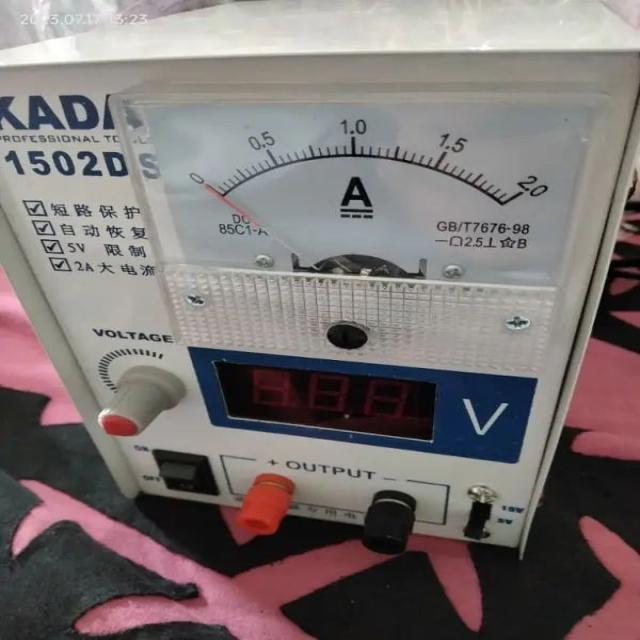electronic: (1, 2, 638, 560)
